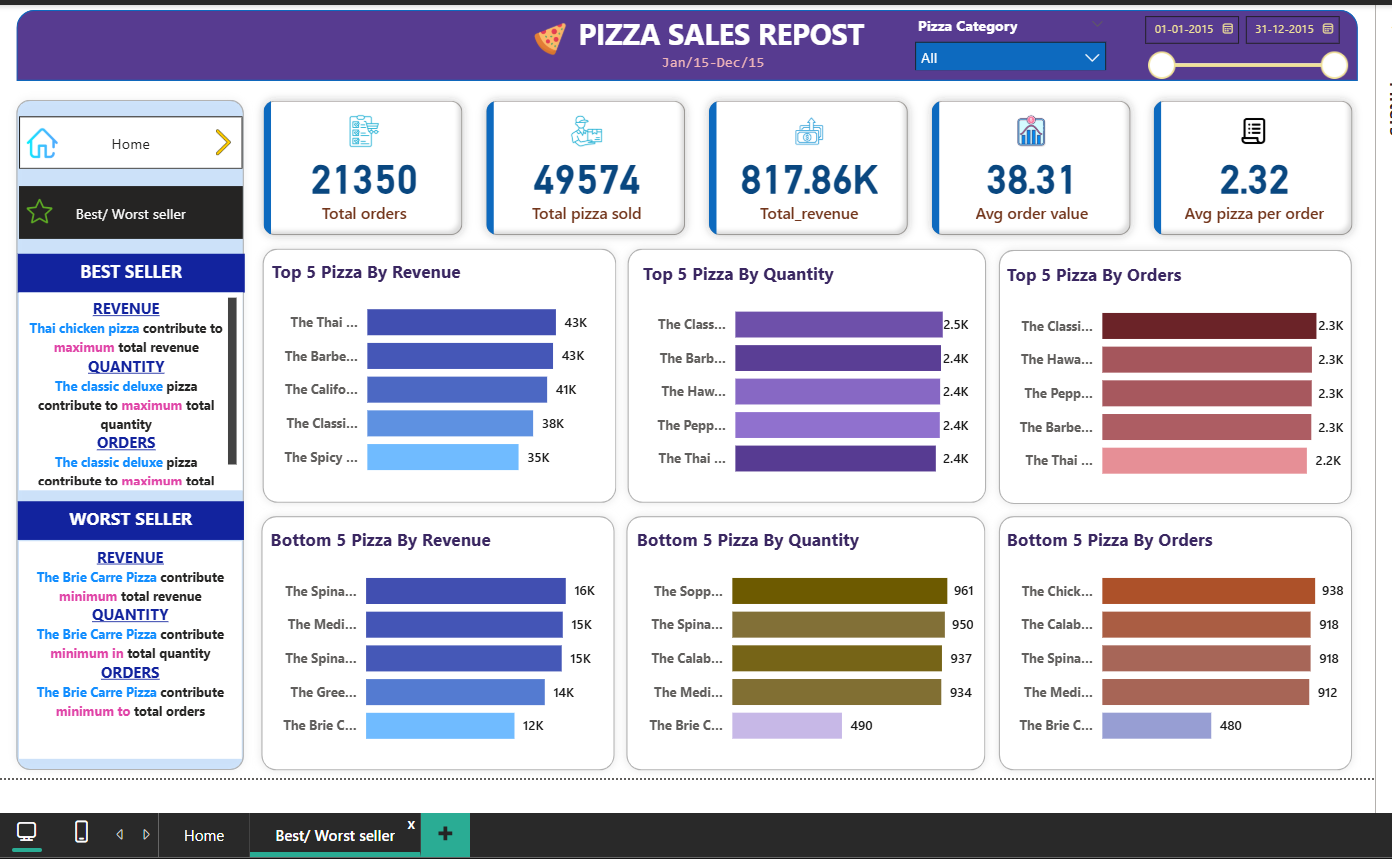

Layout of this report page (visuals, bound fields, positions):
{"tool":"powerbi","page":{"name":"Best/ Worst seller","canvas":[1280,720],"ordinal":1},"visuals":[{"type":"cardVisual","fields":{"Data":["public pizza_sales.Total orders","public pizza_sales.Total pizza sold","public pizza_sales.Total_revenue","public pizza_sales.Avg order value","public pizza_sales.Avg pizza per order"]},"box":[230.1,73.4,1049.9,158],"z":0},{"type":"shape","box":[16.2,5,1247.7,66],"z":1000},{"type":"textbox","box":[513.8,4,316,68.4],"z":2000},{"type":"textbox","box":[612,38,120.7,39],"z":3000},{"type":"image","box":[454,12,118.2,40],"z":4000},{"type":"shape","box":[237.6,218.9,345,252.5],"z":5000},{"type":"shape","box":[8.7,80.6,227.6,639.4],"z":6000},{"type":"textbox","box":[17,231.4,211,36.1],"z":7000},{"type":"textbox","box":[18.7,267.5,207.7,184.1],"z":8000},{"type":"textbox","box":[18,462,210,36.1],"z":9000},{"type":"textbox","box":[19,498.8,207,202.8],"z":10000},{"type":"slicer","fields":{"Values":["public pizza_sales.pizza_category"]},"box":[842.2,5,197.8,56],"z":11000},{"type":"slicer","fields":{"Values":["public pizza_sales.order_date"]},"box":[1053.6,0,210.2,73.4],"z":12000},{"type":"shape","box":[921.8,467.7,344.6,252.5],"z":13000},{"type":"shape","box":[576,467.7,350,252.5],"z":14000},{"type":"shape","box":[236.4,467.7,344.6,252.5],"z":15000},{"type":"shape","box":[577,218.9,349.6,252.5],"z":16000},{"type":"shape","box":[922.1,219.6,344.4,252.5],"z":17000},{"type":"barChart","title":"Top 5 Pizza By Revenue","fields":{"Category":["public pizza_sales.pizza_name"],"Y":["public pizza_sales.Total_revenue"]},"box":[248.8,236.4,323.4,215.2],"z":18000},{"type":"barChart","title":"Bottom 5 Pizza By Revenue","fields":{"Category":["public pizza_sales.pizza_name"],"Y":["public pizza_sales.Total_revenue"]},"box":[247.5,486.4,323.4,215.2],"z":19000},{"type":"barChart","title":"Top 5 Pizza By Quantity","fields":{"Category":["public pizza_sales.pizza_name"],"Y":["Sum(public pizza_sales.quantity)"]},"box":[594.2,238.8,312.9,214.1],"z":20000},{"type":"barChart","title":"Bottom 5 Pizza By Quantity","fields":{"Category":["public pizza_sales.pizza_name"],"Y":["Sum(public pizza_sales.quantity)"]},"box":[588.9,486.4,323.3,215.1],"z":21000},{"type":"barChart","title":"Bottom 5 Pizza By Orders","fields":{"Category":["public pizza_sales.pizza_name"],"Y":["public pizza_sales.Total orders"]},"box":[932.4,486.4,323.3,215.1],"z":22000},{"type":"barChart","title":"Top 5 Pizza By Orders","fields":{"Category":["public pizza_sales.pizza_name"],"Y":["public pizza_sales.Total orders"]},"box":[932.4,239.6,323.3,215.1],"z":23000},{"type":"pageNavigator","box":[18.7,103.2,209,49.8],"z":24000},{"type":"pageNavigator","box":[18.7,169.2,209,49.8],"z":25000},{"type":"image","box":[191.6,109.5,33.6,36.1],"z":26000},{"type":"image","box":[16.2,109.5,48.5,38.6],"z":26001},{"type":"image","box":[21.1,170.4,33.6,42.3],"z":26002}]}

Visuals, with their boxes on the page's 1280x720 design canvas (x1, y1, x2, y2). These are canvas units, not pixel positions in the 1392x859 screenshot, which may show the page scaled, cropped or inside an application window:
cardVisual - public pizza_sales.Total orders x public pizza_sales.Total pizza sold: pyautogui.locateOnScreen(230, 73, 1280, 231)
shape: pyautogui.locateOnScreen(16, 5, 1264, 71)
textbox: pyautogui.locateOnScreen(514, 4, 830, 72)
textbox: pyautogui.locateOnScreen(612, 38, 733, 77)
image: pyautogui.locateOnScreen(454, 12, 572, 52)
shape: pyautogui.locateOnScreen(238, 219, 583, 471)
shape: pyautogui.locateOnScreen(9, 81, 236, 720)
textbox: pyautogui.locateOnScreen(17, 231, 228, 268)
textbox: pyautogui.locateOnScreen(19, 268, 226, 452)
textbox: pyautogui.locateOnScreen(18, 462, 228, 498)
textbox: pyautogui.locateOnScreen(19, 499, 226, 702)
slicer - public pizza_sales.pizza_category: pyautogui.locateOnScreen(842, 5, 1040, 61)
slicer - public pizza_sales.order_date: pyautogui.locateOnScreen(1054, 0, 1264, 73)
shape: pyautogui.locateOnScreen(922, 468, 1266, 720)
shape: pyautogui.locateOnScreen(576, 468, 926, 720)
shape: pyautogui.locateOnScreen(236, 468, 581, 720)
shape: pyautogui.locateOnScreen(577, 219, 927, 471)
shape: pyautogui.locateOnScreen(922, 220, 1266, 472)
"Top 5 Pizza By Revenue" barChart: pyautogui.locateOnScreen(249, 236, 572, 452)
"Bottom 5 Pizza By Revenue" barChart: pyautogui.locateOnScreen(248, 486, 571, 702)
"Top 5 Pizza By Quantity" barChart: pyautogui.locateOnScreen(594, 239, 907, 453)
"Bottom 5 Pizza By Quantity" barChart: pyautogui.locateOnScreen(589, 486, 912, 702)
"Bottom 5 Pizza By Orders" barChart: pyautogui.locateOnScreen(932, 486, 1256, 702)
"Top 5 Pizza By Orders" barChart: pyautogui.locateOnScreen(932, 240, 1256, 455)
pageNavigator: pyautogui.locateOnScreen(19, 103, 228, 153)
pageNavigator: pyautogui.locateOnScreen(19, 169, 228, 219)
image: pyautogui.locateOnScreen(192, 110, 225, 146)
image: pyautogui.locateOnScreen(16, 110, 65, 148)
image: pyautogui.locateOnScreen(21, 170, 55, 213)
